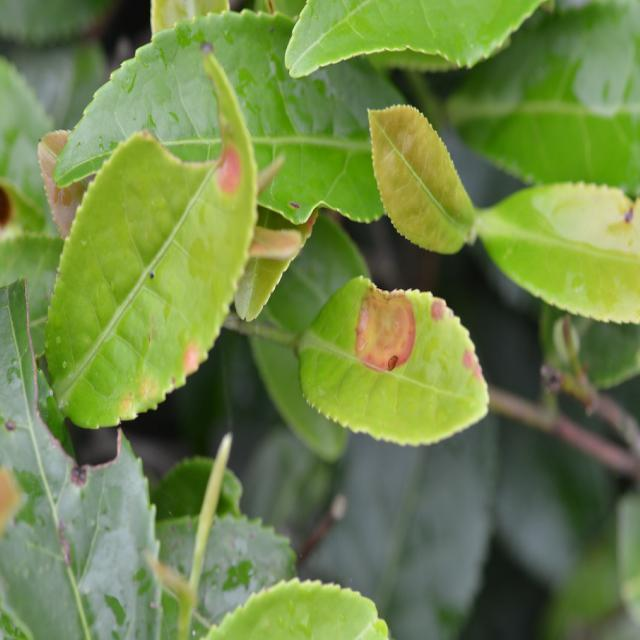Tea cake: (355, 286, 420, 367), (212, 137, 247, 205)
